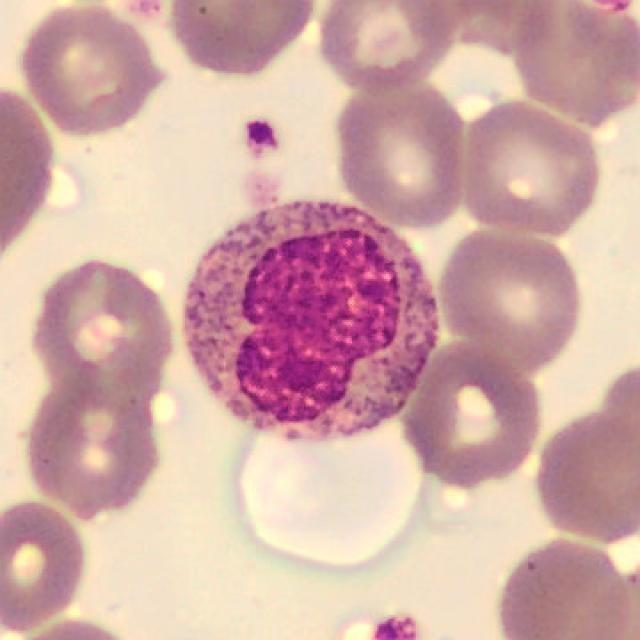Metamielocito: (184, 197, 437, 444)
